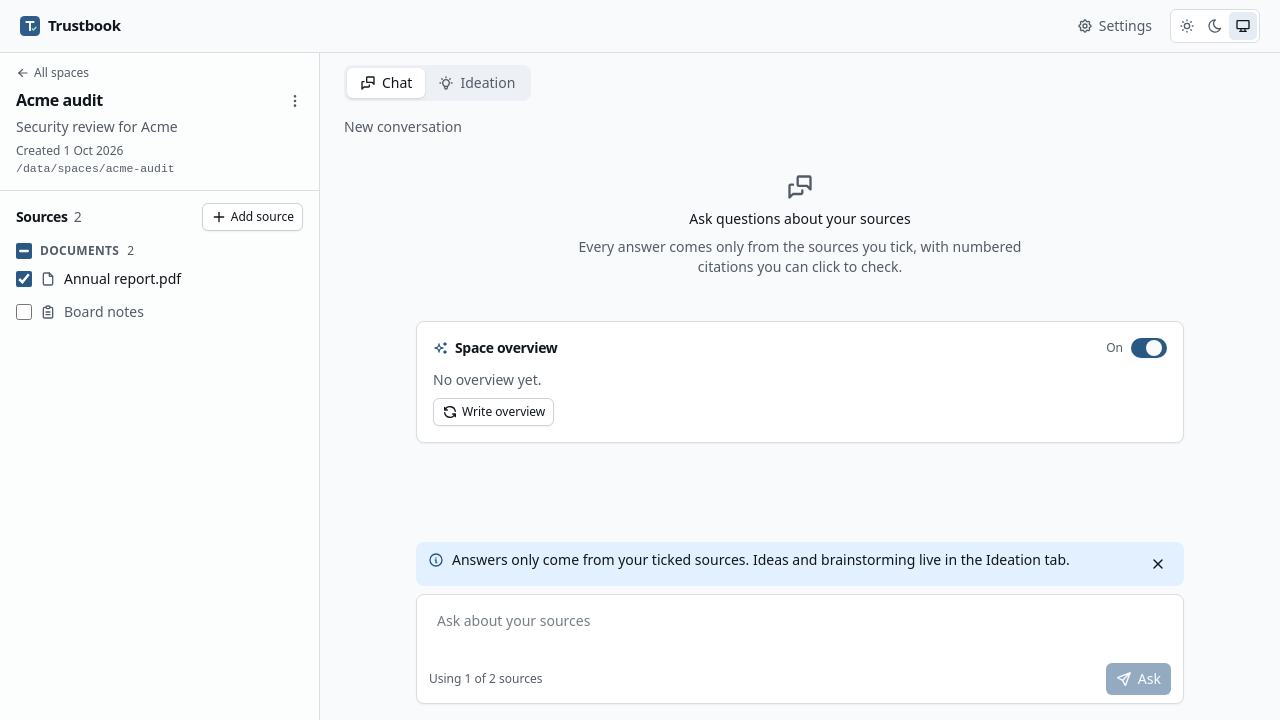
chat › keeps a refusal visible when the stream ends without a stored message
Type "Anything?" into the text box named "Question". click: (800, 631)
box: [425, 603, 1175, 659]
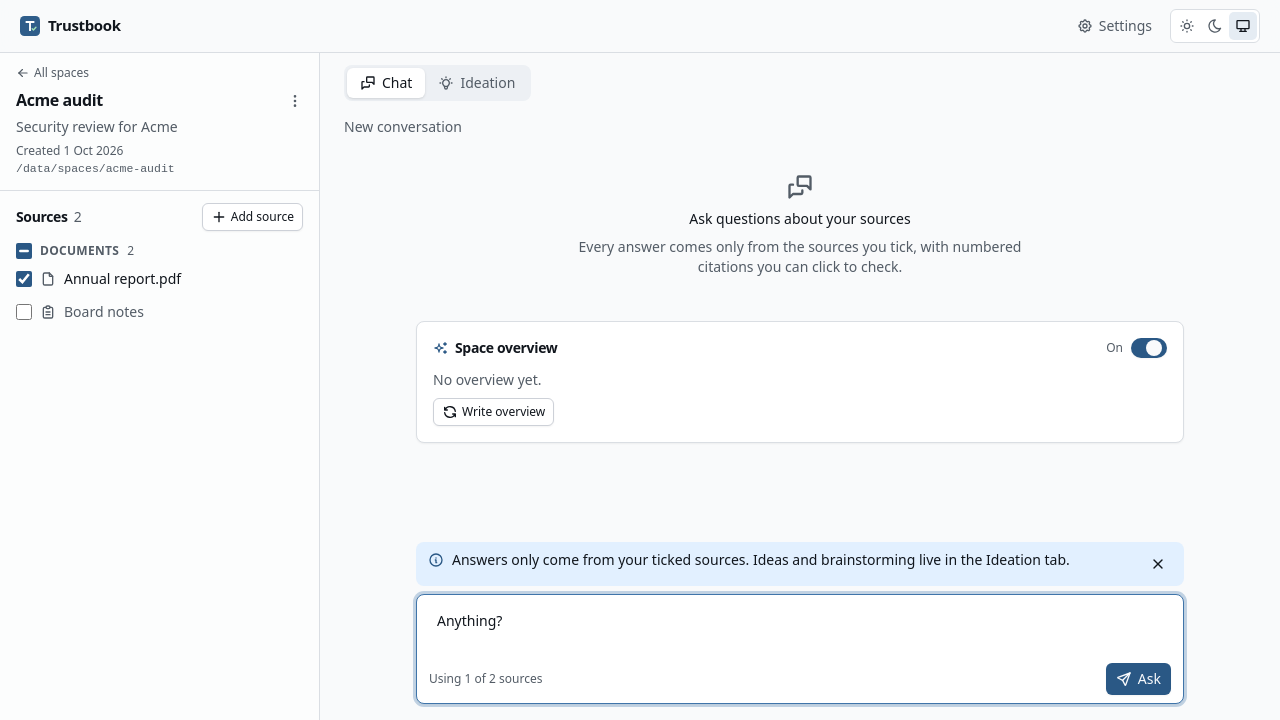
Click the button "Ask". click: (1138, 679)
box: [1106, 663, 1171, 695]
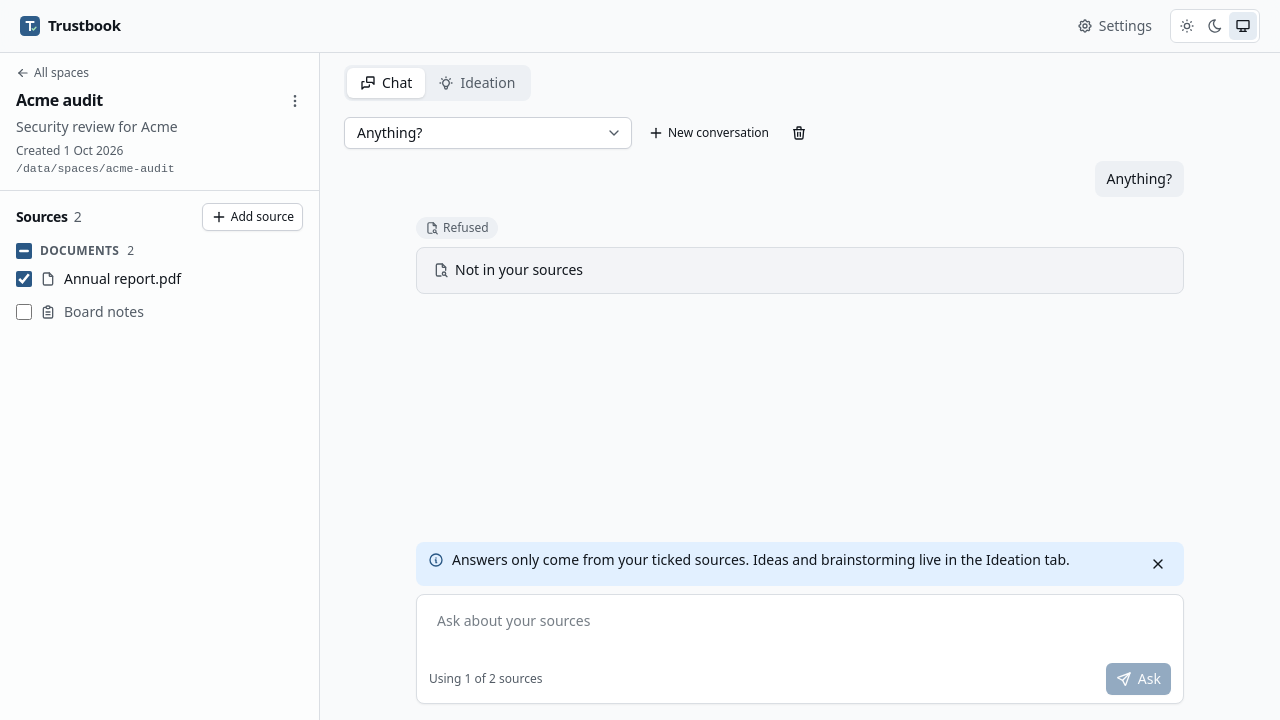
Expected: the element with test id "refusal-title" reads "Not in your sources", [455, 260, 583, 279]
Expected: the element with test id "refusal-card" is shown, [416, 247, 1184, 294]
